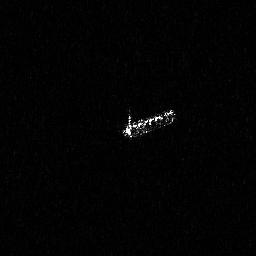ship: (119, 105, 177, 143)
